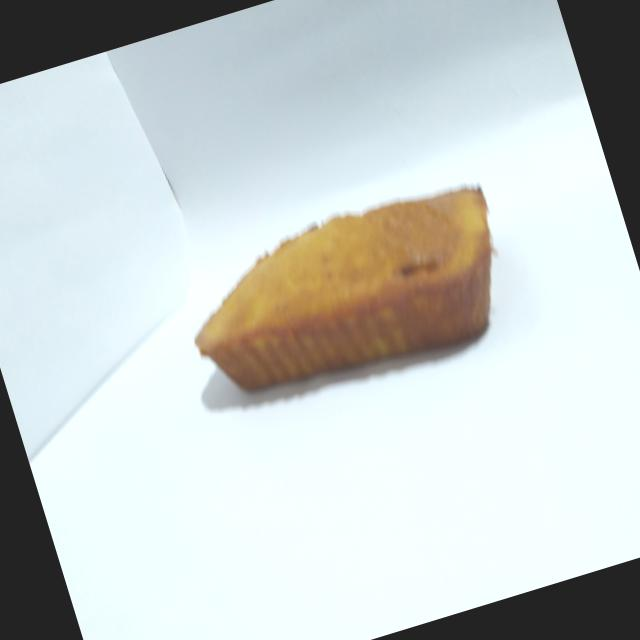Sopa: (162, 151, 542, 438)
